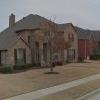Chimney: (5, 9, 19, 31)
